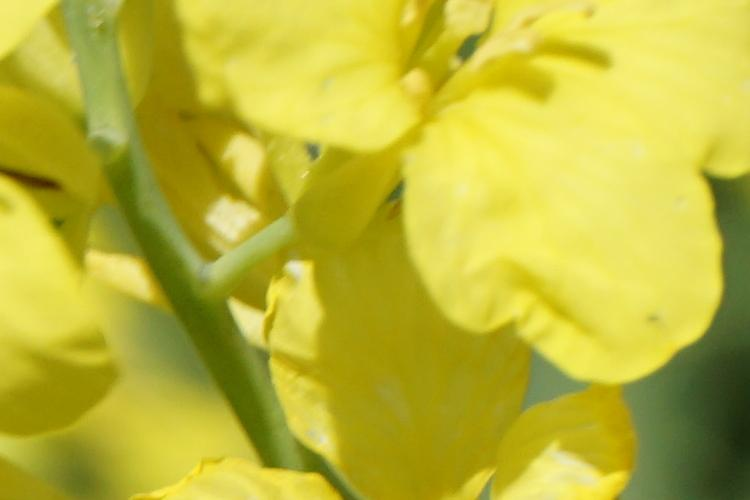yellow: (153, 14, 737, 357), (146, 231, 629, 495)
